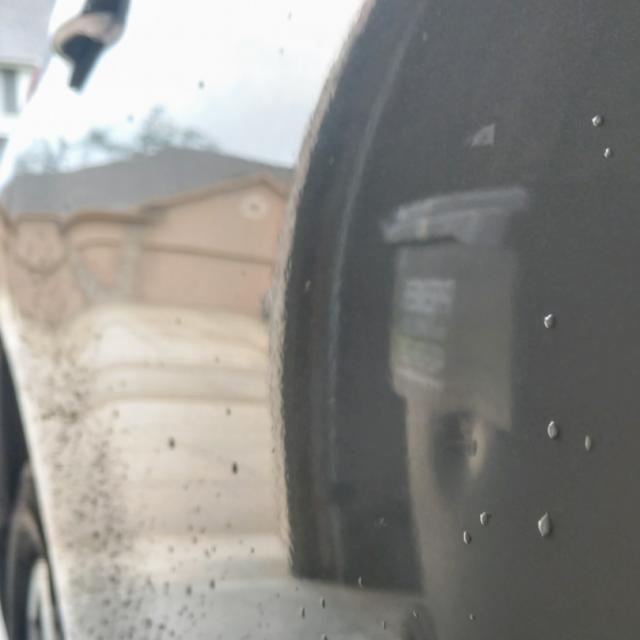dents: (404, 382, 558, 506)
